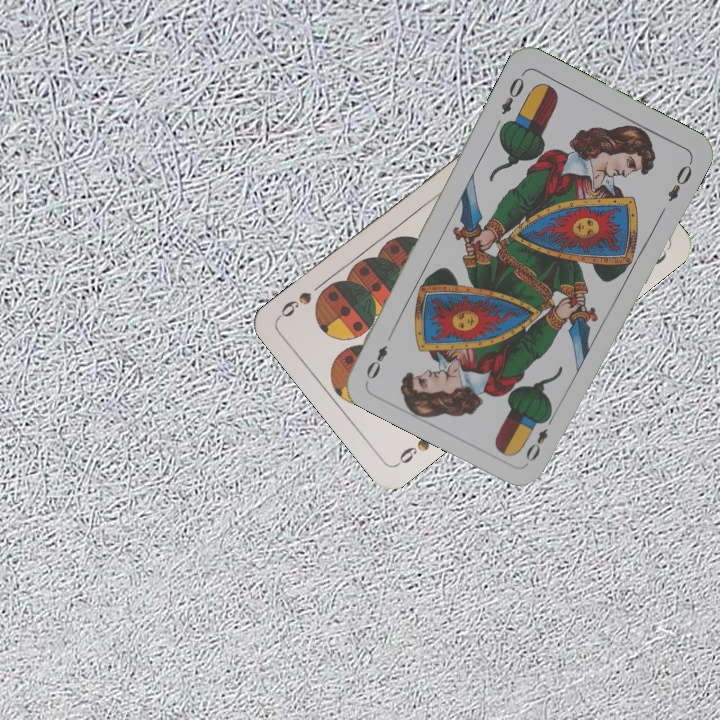EO: (521, 410, 557, 465), (497, 68, 527, 117)
S9: (392, 434, 433, 469)
